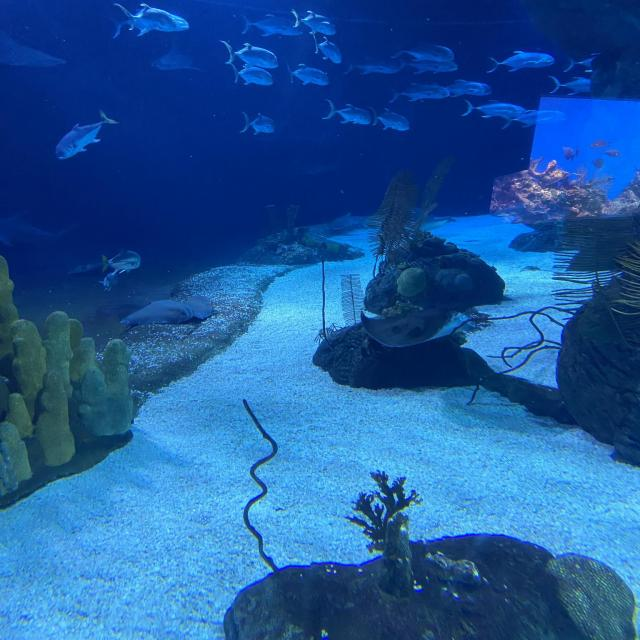fish: (54, 109, 118, 161), (101, 3, 189, 38), (220, 40, 278, 69), (114, 4, 177, 30), (240, 15, 304, 37), (486, 52, 555, 72), (499, 109, 565, 129), (460, 99, 527, 118), (391, 42, 454, 62), (321, 99, 371, 124), (390, 82, 449, 102), (104, 243, 142, 274), (227, 62, 274, 86), (344, 56, 400, 76), (285, 61, 329, 86), (368, 106, 410, 130), (311, 32, 342, 64), (395, 58, 457, 74), (240, 110, 276, 136), (293, 15, 337, 36), (447, 79, 492, 98), (550, 76, 592, 95), (564, 52, 601, 73), (328, 212, 370, 230), (98, 272, 122, 291)
shark: (0, 208, 78, 252), (1, 28, 66, 68), (147, 33, 205, 73)
stingray: (360, 308, 476, 348), (120, 294, 212, 324)
